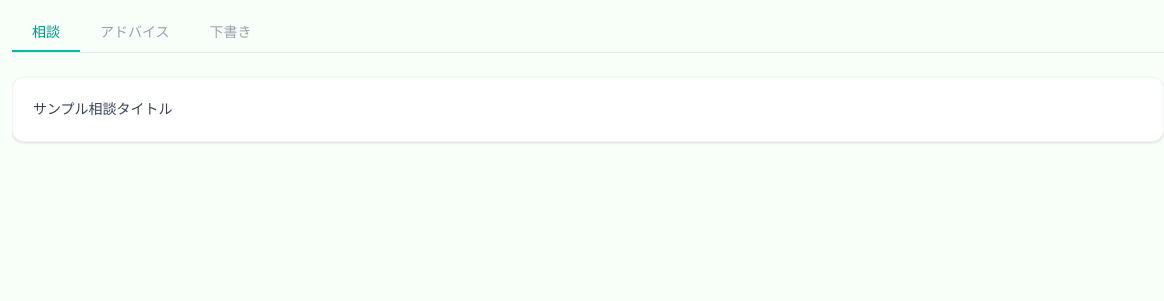
Scenario: UserContentTabs 下書きタブ › 相談とアドバイスの下書きを更新日時の新しい順に混在表示し、種別バッジを付ける(いずれも編集へリンク)
The width and height of the screenshot is (1164, 301).
Click the button "下書き": (231, 32) [190,12,272,52]
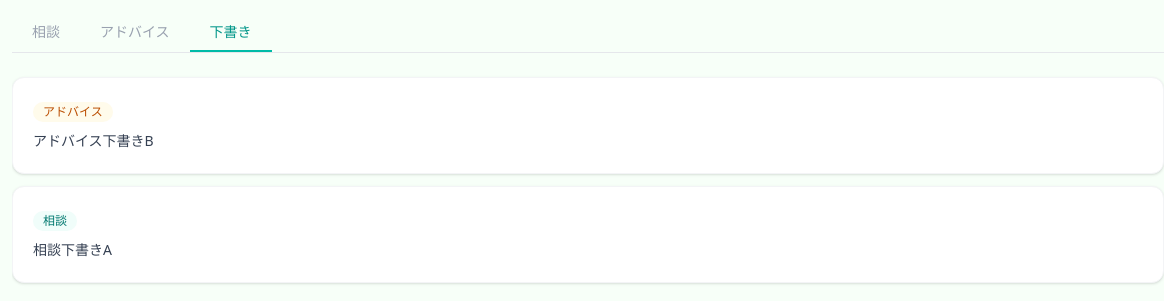
Expected: the text "相談" is shown, [33,211,77,231]
Expected: the text "アドバイス" is shown, [33,102,113,122]
